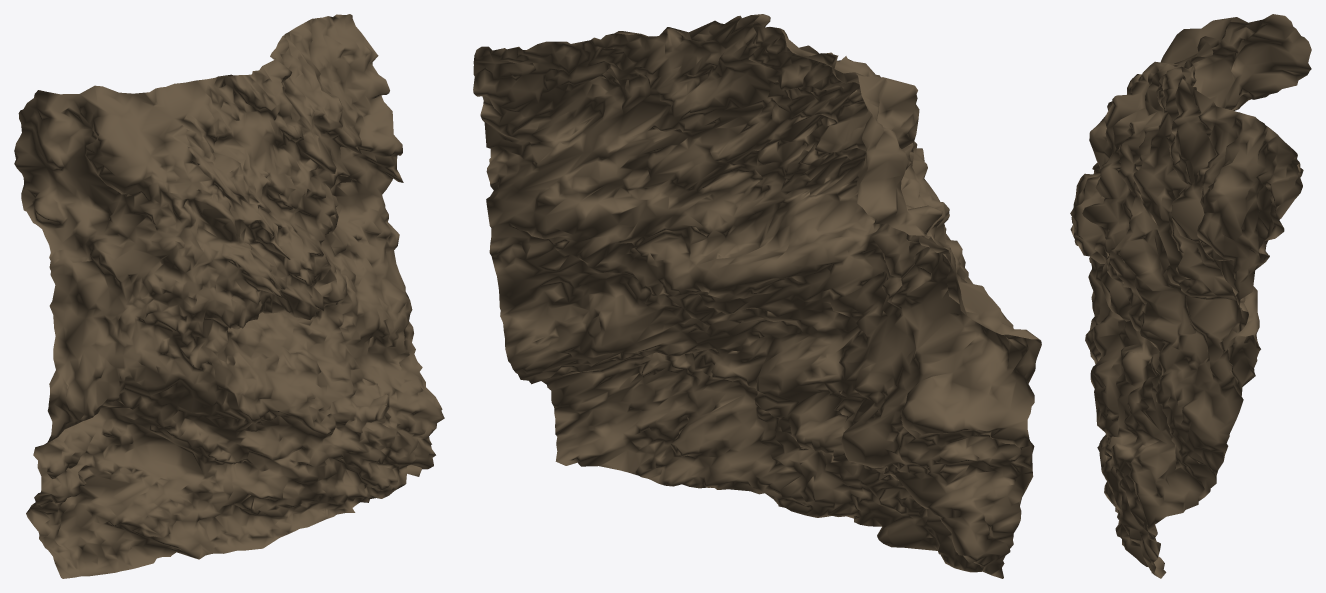
The model's file is mountainside-lod0.glb.
3 renders of one model, left to right at view 1: azimuth 30°, elevation 25°; view 2: azimuth 150°, elevation 25°; view 3: azimuth 270°, elevation 25°, orthographic. The views are drawn at different scales.
Visible parts, largest first — view 1: mountainside; view 2: mountainside; view 3: mountainside.
Boxes of the visible parts, x1=… form: mountainside: x1=14, y1=14, x2=444, y2=578; mountainside: x1=473, y1=14, x2=1041, y2=578; mountainside: x1=1070, y1=14, x2=1311, y2=578.
Size of the model in its own units: 10.2 by 10.52 by 5.25.
